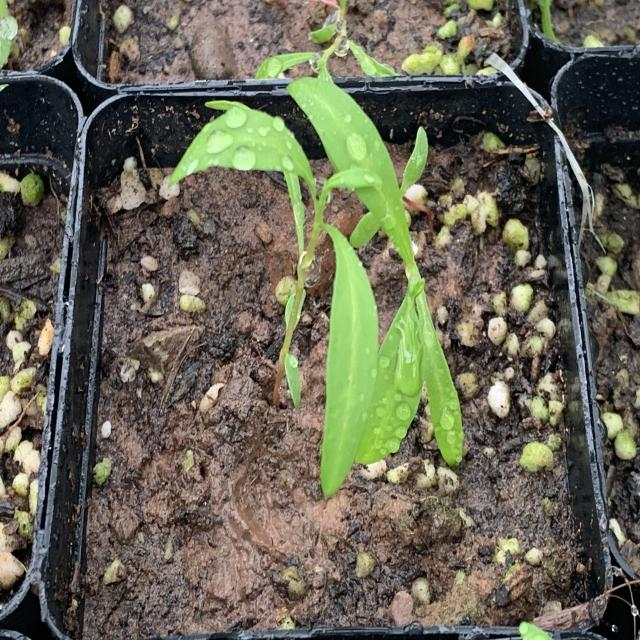white_smart_weed: (205, 84, 459, 520)
